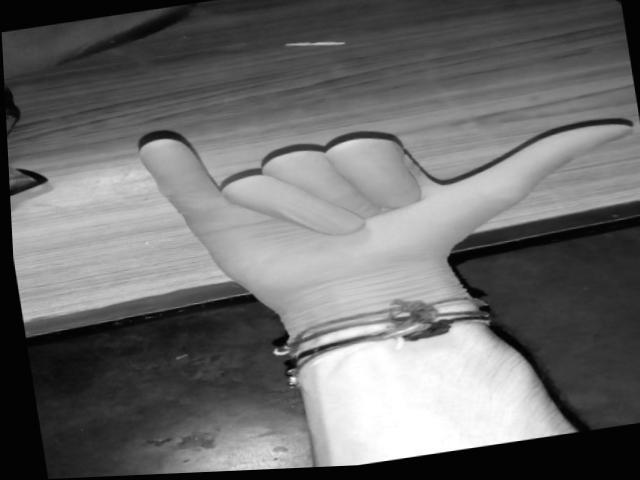Hand-in-Glove: (95, 48, 640, 368)
